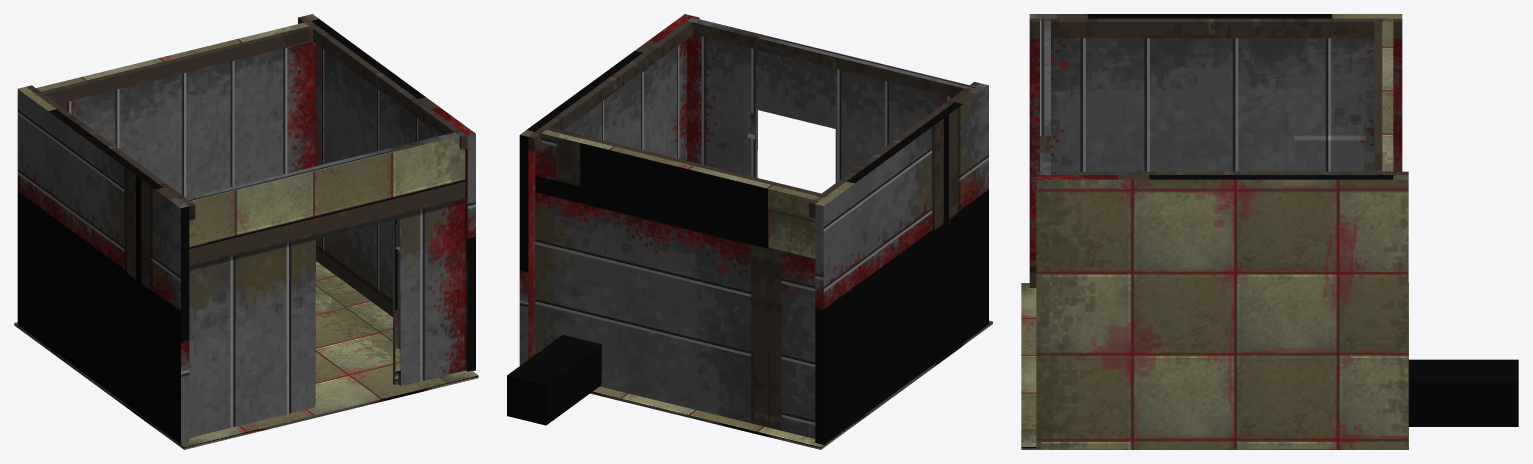
The model's file is Room.FBX.
3 views of the same model, side by side, from view 1: azimuth 30°, elevation 25°; view 2: azimuth 150°, elevation 25°; view 3: azimuth 270°, elevation 25° (orthographic). The views are drawn at different scales.
Parts seen in each view (by area): view 1: Room; view 2: Room; view 3: Room.
Boxes of the visible parts, bbox=[...] form: Room: bbox=[14, 14, 478, 449]; Room: bbox=[507, 14, 992, 449]; Room: bbox=[1021, 14, 1518, 449].
Size of the model in its own units: 52.68 by 40.33 by 66.76.
Materials: 1 (1 with a texture image).
